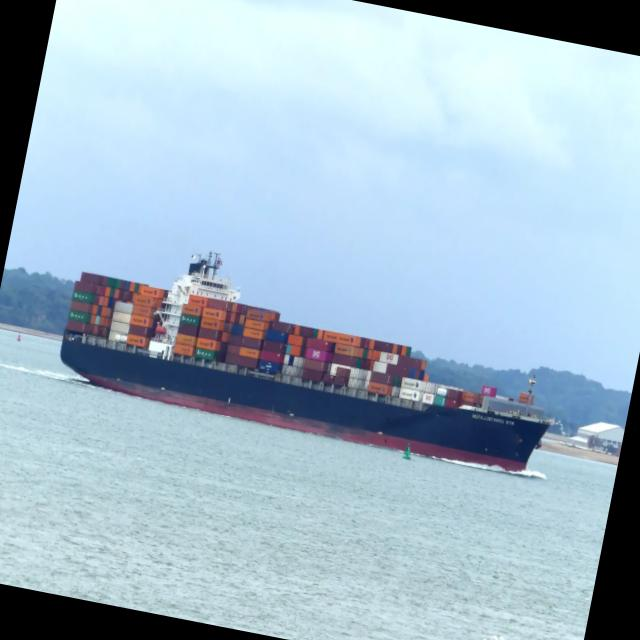Cargo: (61, 253, 551, 472)
